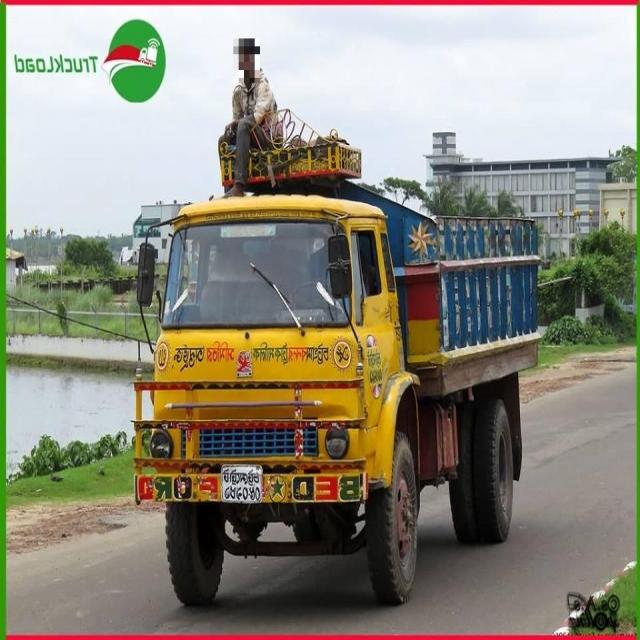truck: (115, 103, 552, 612)
